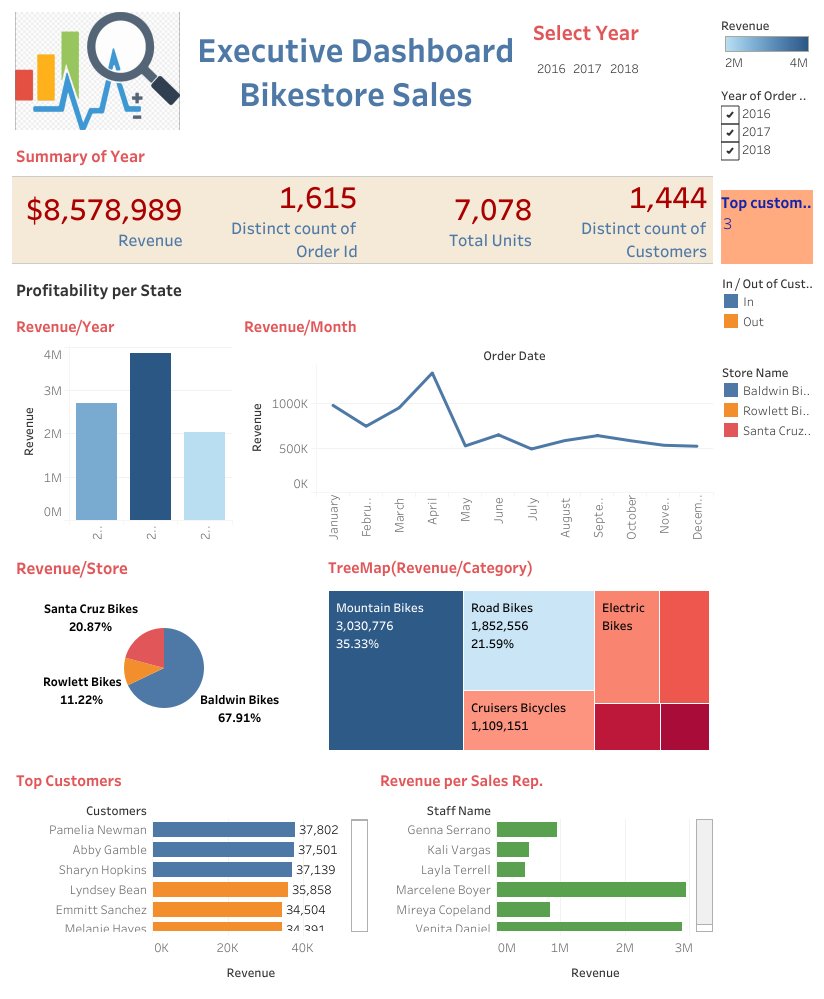

Layout of this report page (visuals, bound fields, positions):
{"tool":"tableau","page":{"name":"Dashboard 1","canvas":[825,1000],"ordinal":0},"visuals":[{"type":"image","param":"Image/salesimg2.JPG","box":[8,8,179,126]},{"type":"text","box":[187,8,338,126]},{"type":"worksheet","title":"select Year","mark":"Automatic","box":[525,8,192,126]},{"type":"legend","title":"Revenue/Year","param":"[federated.0jxl5xz0f36poc133yfqv12qb96n].[sum:revenue:qk]","box":[717,8,100,67]},{"type":"filter","title":"Revenue/Month","param":"[federated.0jxl5xz0f36poc133yfqv12qb96n].[yr:order_date:ok]","box":[717,81,100,105]},{"type":"worksheet","title":"Banner","mark":"Automatic","box":[8,134,709,134]},{"type":"parameter","param":"[Parameters].[Parameter 1]","box":[717,186,100,82]},{"type":"worksheet","title":"Title","mark":"Automatic","box":[8,268,709,37]},{"type":"legend","title":"Top Customers","param":"[federated.0jxl5xz0f36poc133yfqv12qb96n].[io:Customers Set:nk]","box":[717,268,100,89]},{"type":"worksheet","title":"Revenue/Year","mark":"Bar","rows":["revenue"],"cols":["order_date"],"box":[8,305,228,241]},{"type":"worksheet","title":"Revenue/Month","mark":"Automatic","rows":["revenue"],"cols":["order_date"],"box":[236,305,480.9,241]},{"type":"legend","title":"Revenue/Store","param":"[federated.0jxl5xz0f36poc133yfqv12qb96n].[none:store_name:nk]","box":[717,357,100,87]},{"type":"worksheet","title":"Revenue/Store","mark":"Pie","box":[8,546,312,213]},{"type":"worksheet","title":"TreeMap(Revenue/Category)","mark":"Automatic","box":[320,546,397,213]},{"type":"worksheet","title":"Top Customers","mark":"Automatic","rows":["customers"],"cols":["revenue"],"box":[8,759,364.5,233]},{"type":"worksheet","title":"Revenue per Sales Rep.","mark":"Automatic","rows":["staff_name"],"cols":["revenue"],"box":[372.5,759,344.5,233]}]}

Visuals, with their boxes in screenshot pixels (x1, y1, x2, y2), scaled from the page's 825x1000 canvas onto the 824x999 screenshot:
image: 8:8:187:134
text: 187:8:524:134
"select Year" worksheet: 524:8:716:134
"Revenue/Year" legend: 716:8:816:75
"Revenue/Month" filter: 716:81:816:186
"Banner" worksheet: 8:134:716:268
parameter: 716:186:816:268
"Title" worksheet: 8:268:716:305
"Top Customers" legend: 716:268:816:357
"Revenue/Year" worksheet (Bar marks): 8:305:236:545
"Revenue/Month" worksheet: 236:305:716:545
"Revenue/Store" legend: 716:357:816:444
"Revenue/Store" worksheet (Pie marks): 8:545:320:758
"TreeMap(Revenue/Category)" worksheet: 320:545:716:758
"Top Customers" worksheet: 8:758:372:991
"Revenue per Sales Rep." worksheet: 372:758:716:991
